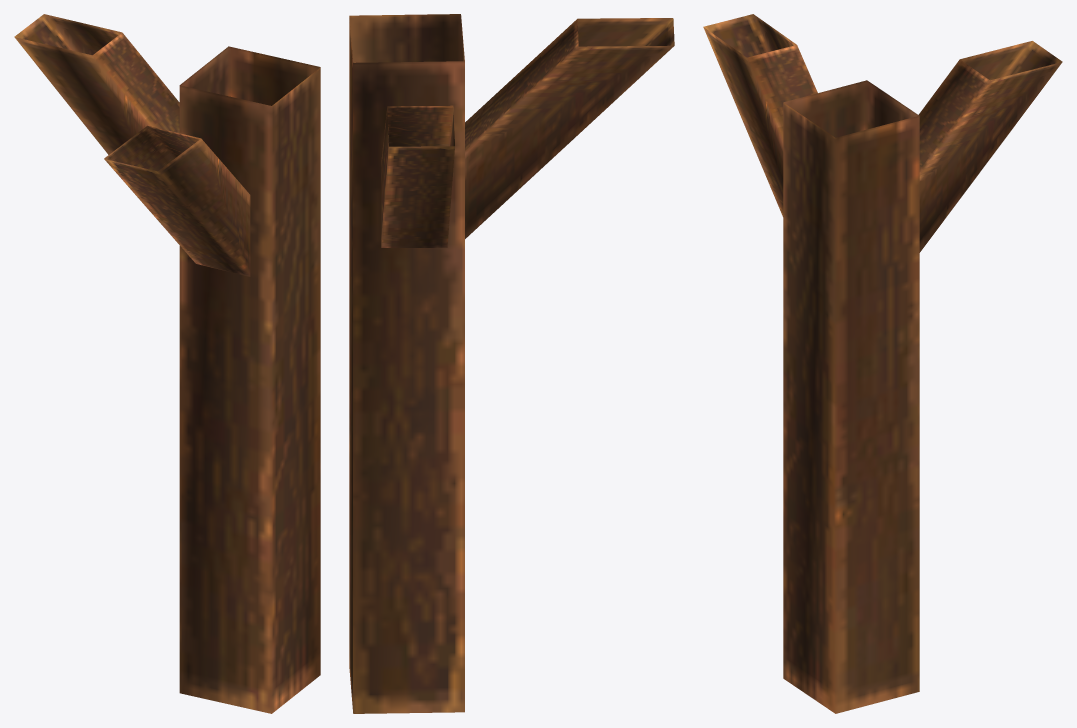
File: SWORDLIGHT20_JAILPLATSUPPORT47.fbx
The picture shows the model from 3 angles, left to right: view 1: azimuth 30°, elevation 25°; view 2: azimuth 150°, elevation 25°; view 3: azimuth 270°, elevation 25°; orthographic projection. The views are drawn at different scales.
Visible parts, largest first — view 1: SWORDLIGHT20_JAILPLATSUPPORT47; view 2: SWORDLIGHT20_JAILPLATSUPPORT47; view 3: SWORDLIGHT20_JAILPLATSUPPORT47.
Boxes of the visible parts, <box> form: SWORDLIGHT20_JAILPLATSUPPORT47: <box>14,14,320,713</box>; SWORDLIGHT20_JAILPLATSUPPORT47: <box>349,14,674,713</box>; SWORDLIGHT20_JAILPLATSUPPORT47: <box>703,14,1062,713</box>.
Size of the model in its own units: 11520 by 25856 by 14538.
Materials: 1 (1 with a texture image).
